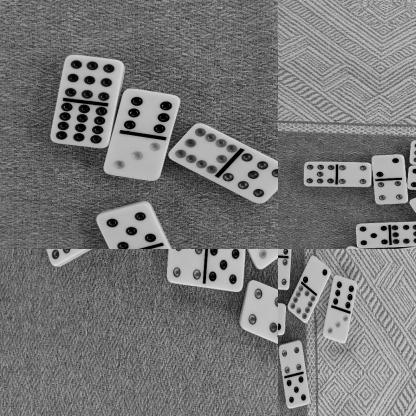pip-10: (168, 122, 236, 173), (287, 282, 316, 322)
pip-11: (408, 140, 416, 164)
pip-12: (49, 102, 110, 148)
pip-2: (301, 254, 330, 292), (370, 153, 405, 179), (278, 301, 286, 334), (408, 190, 416, 220)
pip-3: (103, 132, 166, 181), (322, 307, 350, 341), (248, 249, 278, 267)
pip-4: (239, 279, 278, 336), (166, 249, 204, 286), (336, 161, 371, 187), (373, 178, 407, 204), (278, 340, 303, 375), (278, 255, 289, 289)
pip-5: (94, 200, 159, 249), (206, 249, 244, 290), (284, 374, 310, 409), (354, 223, 390, 247)
pip-6: (119, 88, 180, 133), (330, 274, 356, 309), (405, 165, 416, 190)
pip-7: (219, 152, 278, 203), (302, 160, 336, 187), (40, 249, 81, 263)
pip-8: (389, 220, 416, 245)
pip-9: (58, 54, 122, 102)
